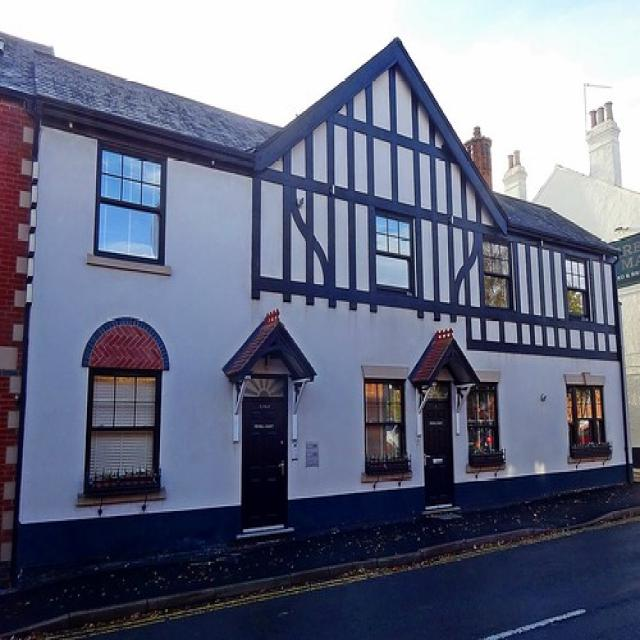building: (6, 30, 632, 569)
